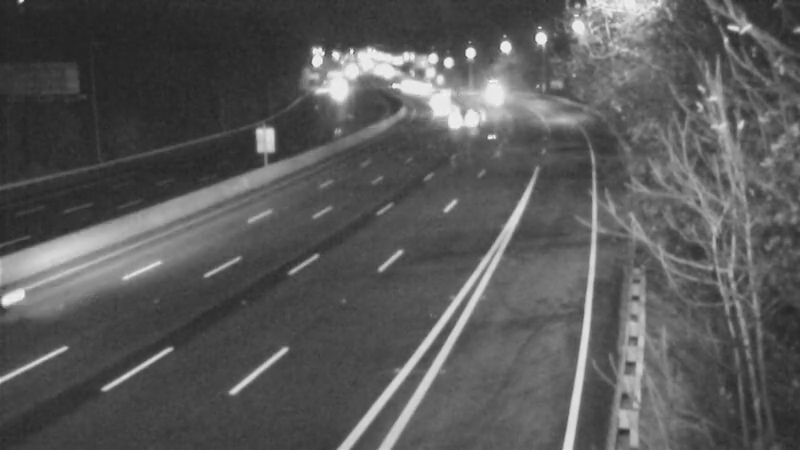vehicle: (472, 75, 522, 125), (412, 78, 462, 128), (420, 85, 470, 135), (439, 91, 489, 141)
